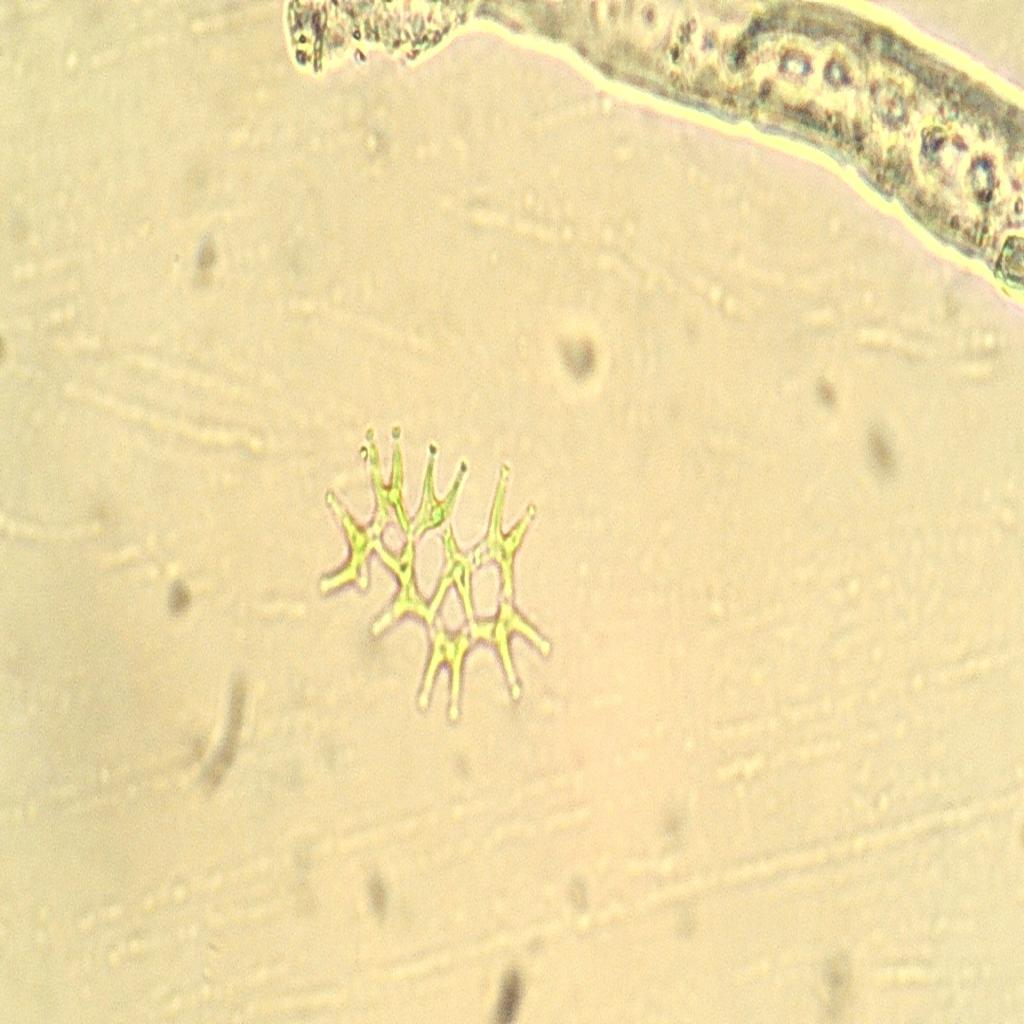Pediastrum_CFI: (310, 380, 561, 752)
